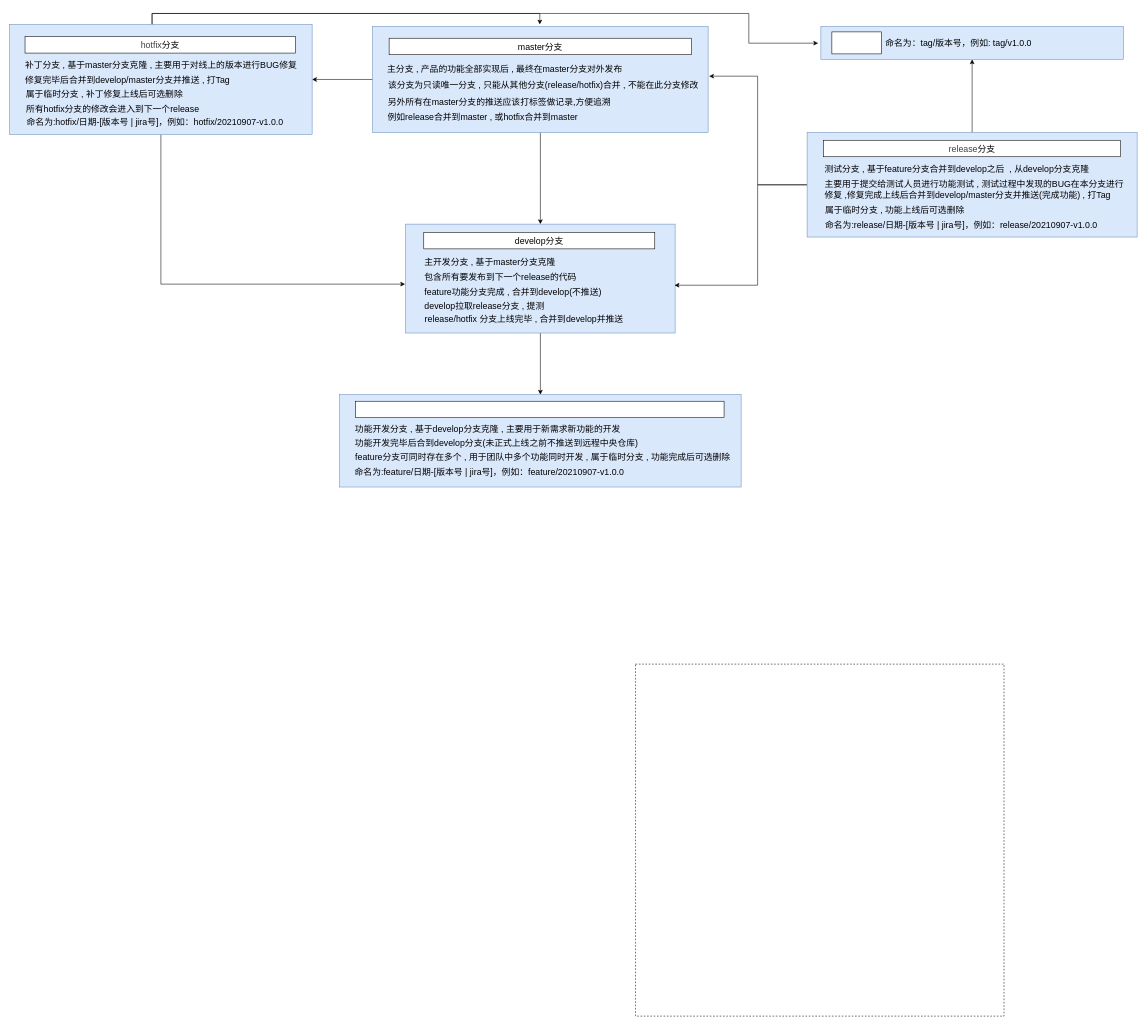
The diagram is 1147 pixels wide and 1026 high, and some of its shapes have lost their labels. Each missing label, with the centre of its shape:
feature 分支: the point at 539,409
tag标签: the point at 856,42
